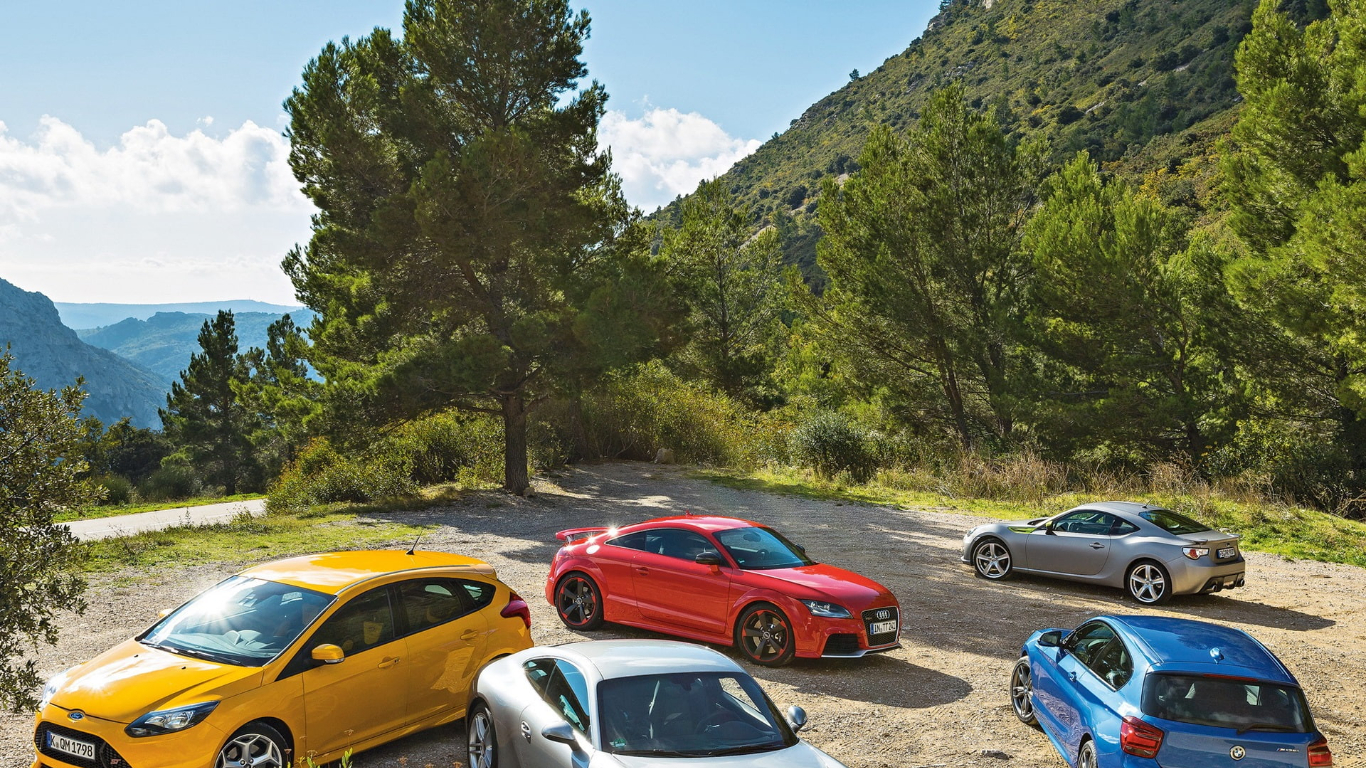Car: (28, 551, 531, 768), (545, 515, 905, 667), (1010, 612, 1335, 767), (961, 498, 1247, 604)
